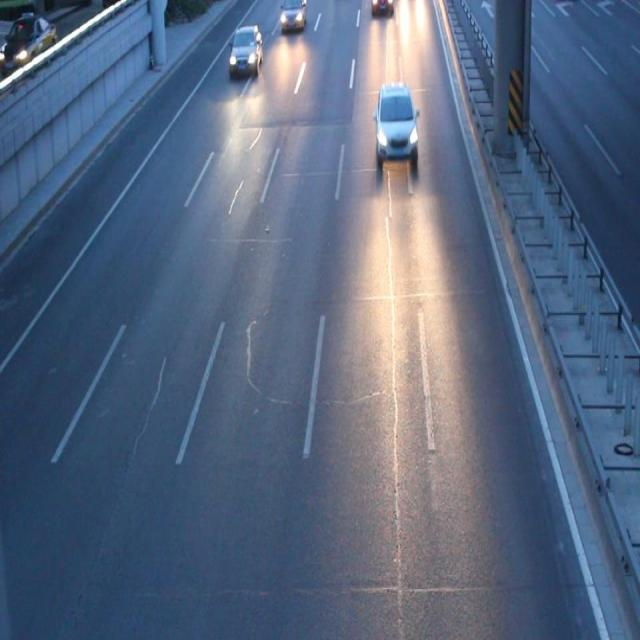car: (372, 81, 419, 167), (230, 25, 262, 76), (280, 1, 307, 32)
